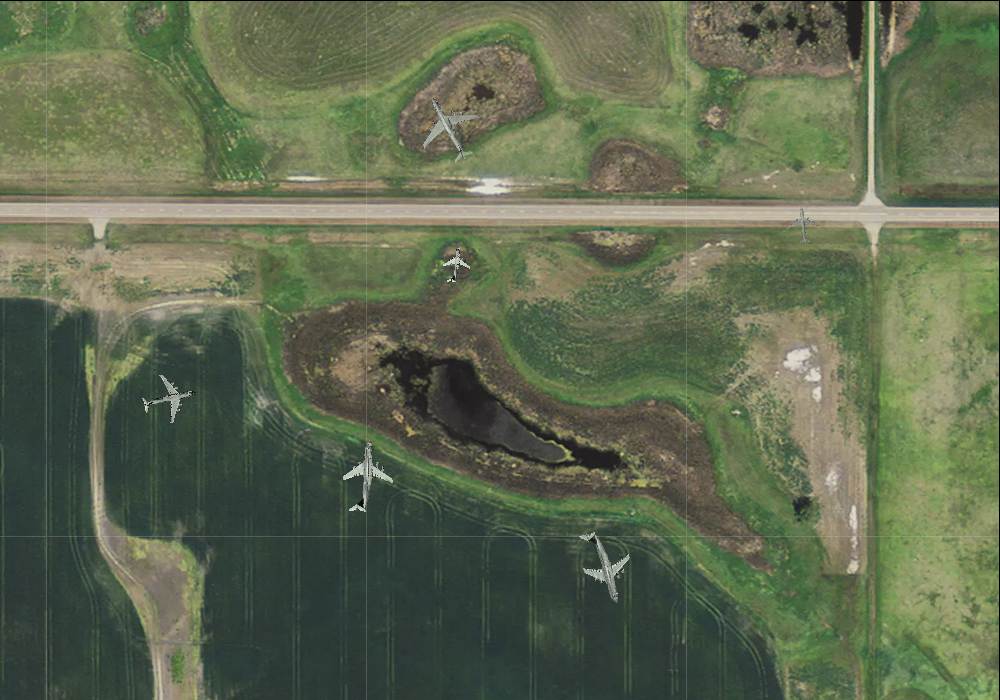plane: (403, 82, 493, 174), (561, 522, 643, 612), (330, 438, 396, 514), (136, 368, 201, 430), (785, 205, 822, 244), (437, 244, 473, 284)
